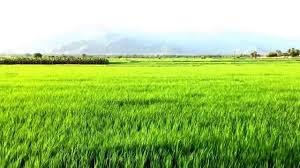field: (0, 58, 299, 167)
